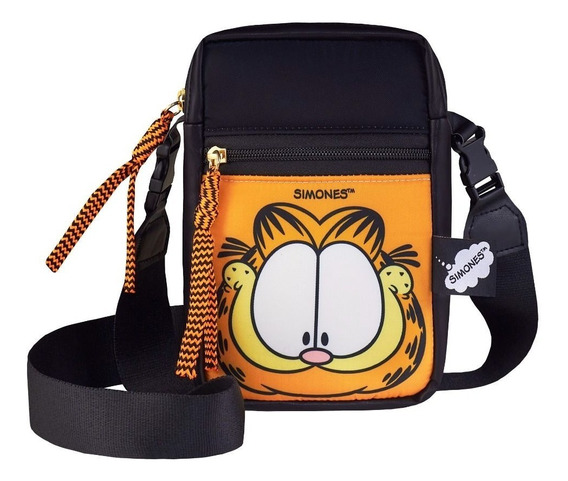cartera: (176, 20, 536, 411)
